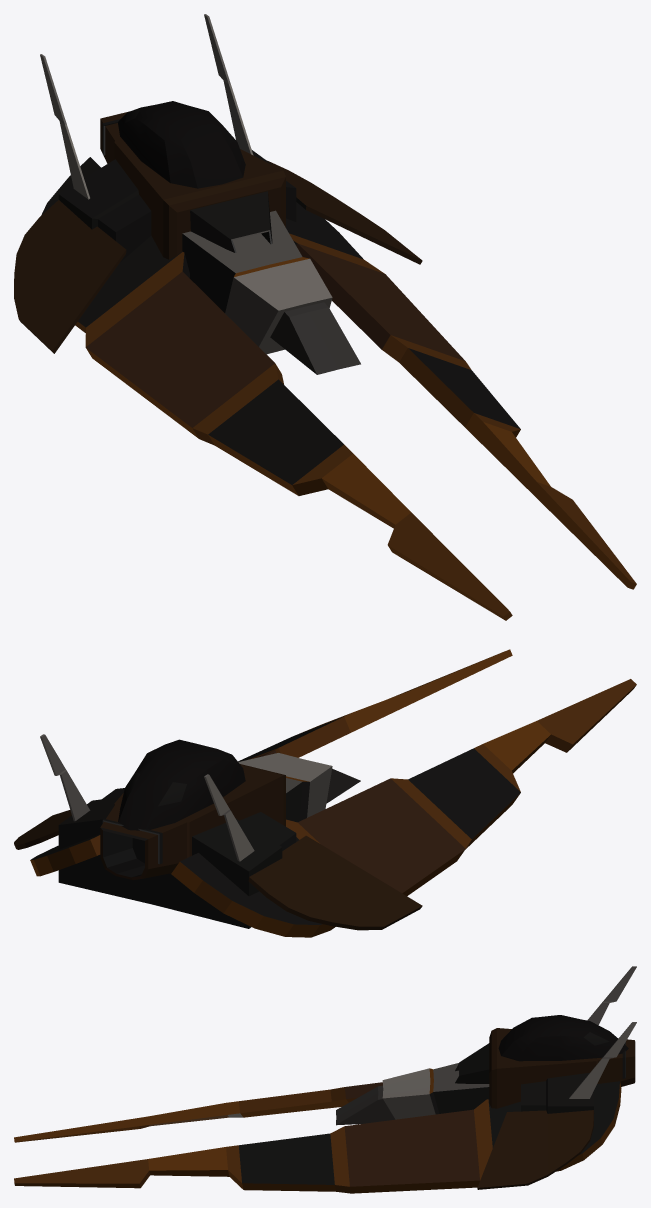
Rendered from dispatcher.obj.
The picture shows the model from 3 angles, top to bottom: view 1: azimuth 30°, elevation 25°; view 2: azimuth 150°, elevation 25°; view 3: azimuth 270°, elevation 25°; orthographic projection. The views are drawn at different scales.
Parts seen in each view (by area): view 1: Dispatcher_Cube.006; view 2: Dispatcher_Cube.006; view 3: Dispatcher_Cube.006.
Boxes of the visible parts, x1=… form: Dispatcher_Cube.006: x1=14, y1=14, x2=636, y2=620; Dispatcher_Cube.006: x1=14, y1=649, x2=636, y2=937; Dispatcher_Cube.006: x1=14, y1=966, x2=636, y2=1193.
Size of the model in its own units: 4.9 by 3.09 by 10.26.
